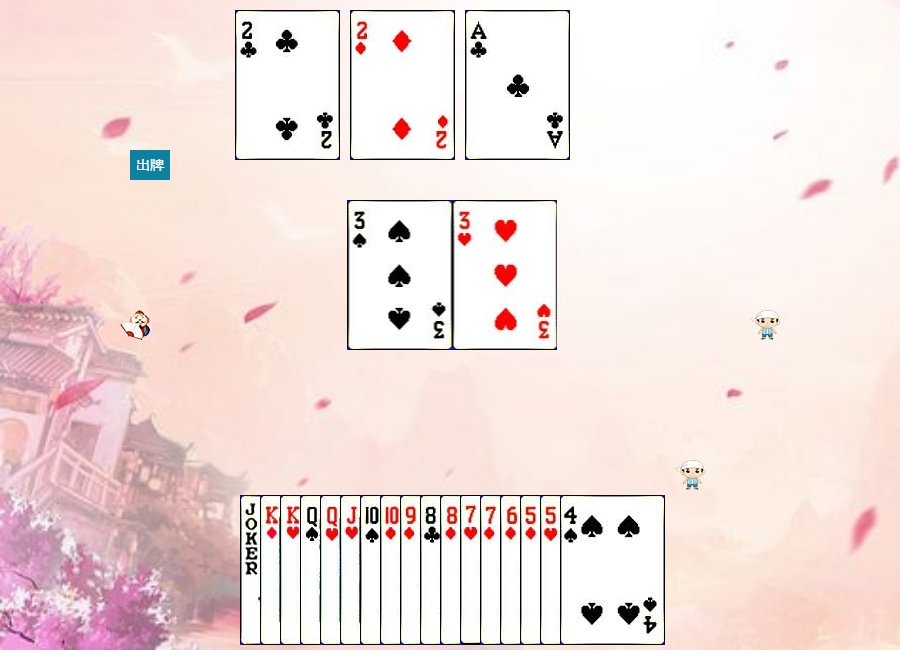10~1: (380, 495, 485, 645)
10~4: (360, 495, 465, 645)
11~3: (340, 495, 445, 645)
12~3: (320, 495, 425, 645)
12~4: (300, 495, 405, 645)
13~1: (260, 495, 365, 645)
13~3: (280, 495, 385, 645)
14~2: (465, 10, 570, 160)
15~1: (350, 10, 455, 160)
15~2: (235, 10, 340, 160)
17~3: (240, 495, 345, 645)
3~3: (453, 200, 558, 350)
3~4: (348, 200, 453, 350)
4~4: (560, 495, 665, 645)
5~1: (520, 495, 625, 645)
5~3: (540, 495, 645, 645)
6~1: (500, 495, 605, 645)
7~1: (480, 495, 585, 645)
7~3: (460, 495, 565, 645)
8~1: (440, 495, 545, 645)
8~2: (420, 495, 525, 645)
9~1: (400, 495, 505, 645)
